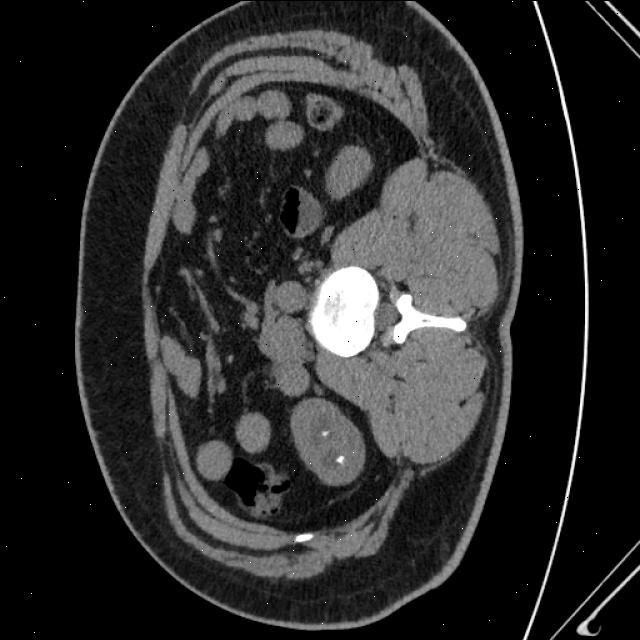kidneystone: (323, 430, 329, 436)
